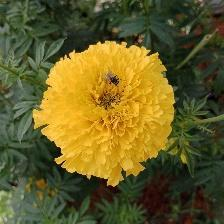marigold: (31, 39, 177, 189)
